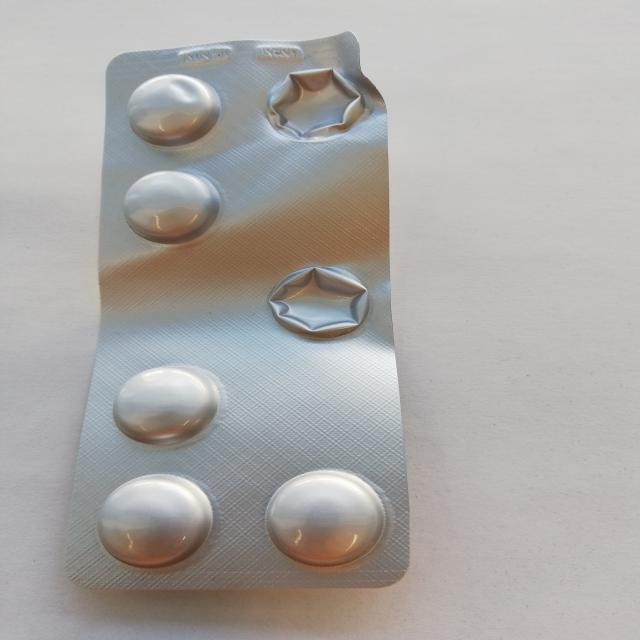Empty: (263, 262, 375, 341), (261, 66, 364, 143)
Pill: (262, 467, 389, 568), (95, 471, 219, 570), (108, 362, 218, 449), (118, 168, 227, 244), (122, 70, 221, 150)
